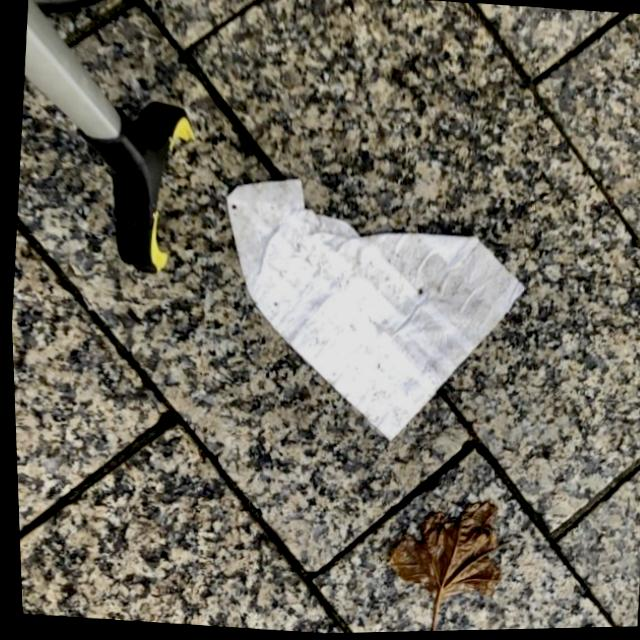Paper: (205, 158, 535, 455)
